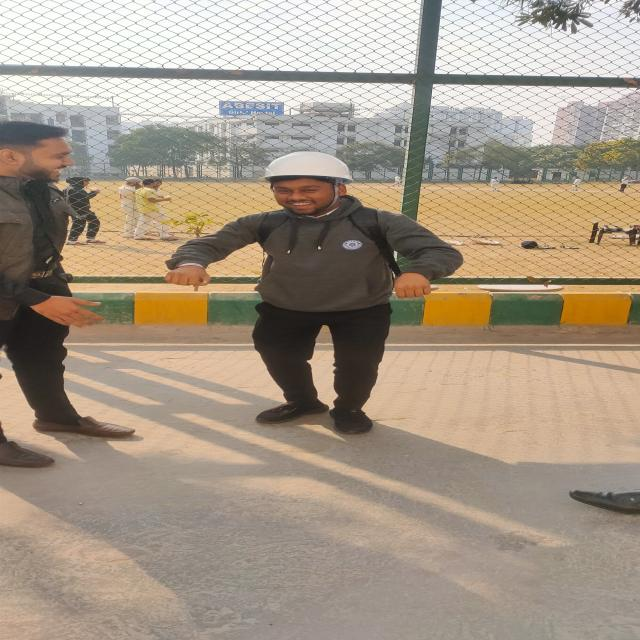no jacket: (165, 151, 464, 435)
unsafe: (0, 122, 139, 469), (63, 176, 106, 246), (135, 179, 162, 241), (120, 176, 143, 238), (488, 177, 504, 192), (618, 177, 632, 192), (572, 177, 582, 191), (392, 175, 401, 187)
